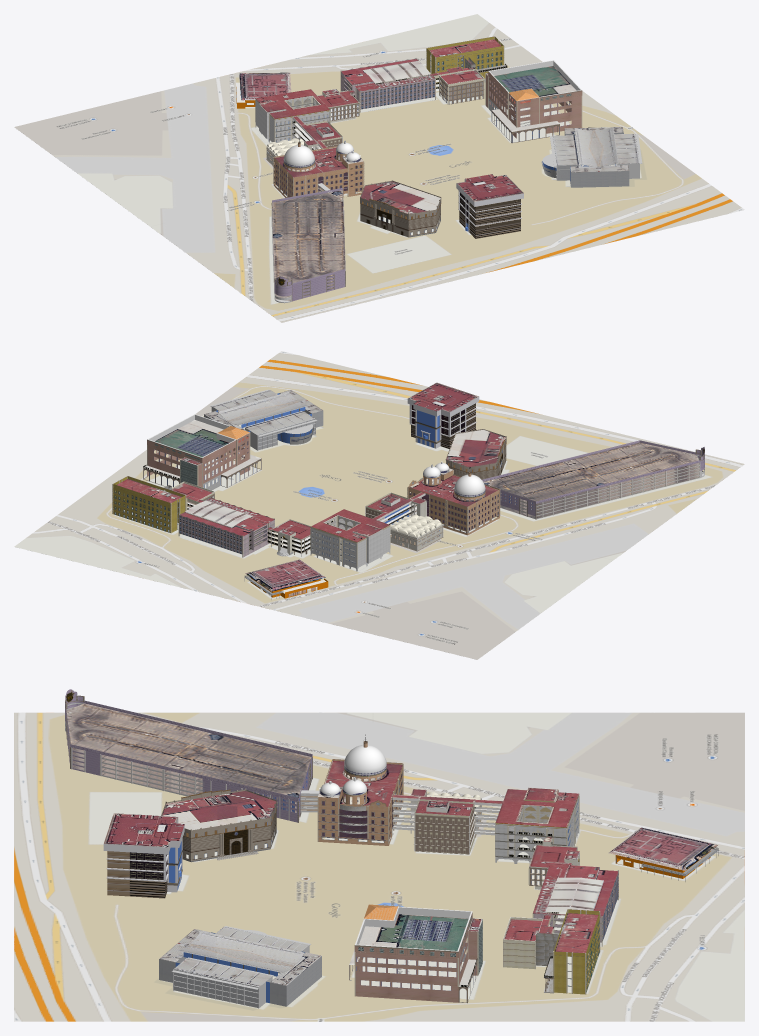
Rendered from ccm_map_notrees.obj.
The picture shows the model from 3 angles, top to bottom: view 1: azimuth 30°, elevation 25°; view 2: azimuth 150°, elevation 25°; view 3: azimuth 270°, elevation 25°; orthographic projection. The views are drawn at different scales.
Visible parts, largest first — view 1: ccm4, ccm14, ccm10, ccm3, ccm2, ccm, ccm8, ccm9, ccm6, ccm1, ccm12, ccm5 (+3 smaller); view 2: ccm4, ccm14, ccm10, ccm3, ccm2, ccm9, ccm6, ccm8, ccm1, ccm, ccm5, ccm7 (+3 smaller); view 3: ccm4, ccm14, ccm10, ccm3, ccm2, ccm, ccm8, ccm6, ccm13, ccm1, ccm9, ccm5 (+2 smaller).
Boxes of the visible parts, bbox=[...] form: ccm4: bbox=[14, 14, 744, 322]; ccm14: bbox=[271, 183, 345, 303]; ccm10: bbox=[485, 60, 582, 143]; ccm3: bbox=[541, 127, 642, 187]; ccm2: bbox=[273, 137, 364, 197]; ccm: bbox=[360, 180, 441, 237]; ccm8: bbox=[456, 174, 523, 238]; ccm9: bbox=[340, 58, 435, 112]; ccm6: bbox=[255, 89, 330, 142]; ccm1: bbox=[426, 36, 507, 87]; ccm12: bbox=[431, 67, 484, 104]; ccm5: bbox=[236, 72, 291, 108]; ccm4: bbox=[14, 351, 744, 659]; ccm14: bbox=[482, 440, 704, 519]; ccm10: bbox=[143, 414, 261, 490]; ccm3: bbox=[204, 389, 323, 450]; ccm2: bbox=[407, 461, 500, 535]; ccm9: bbox=[178, 497, 274, 557]; ccm6: bbox=[310, 509, 390, 571]; ccm8: bbox=[407, 382, 479, 448]; ccm1: bbox=[112, 476, 186, 533]; ccm: bbox=[445, 429, 506, 479]; ccm5: bbox=[244, 559, 328, 599]; ccm7: bbox=[390, 498, 443, 551]; ccm4: bbox=[14, 712, 744, 1021]; ccm14: bbox=[65, 689, 319, 822]; ccm10: bbox=[349, 904, 482, 1003]; ccm3: bbox=[159, 926, 321, 1008]; ccm2: bbox=[317, 734, 403, 845]; ccm: bbox=[161, 788, 276, 862]; ccm8: bbox=[103, 813, 184, 898]; ccm6: bbox=[495, 787, 579, 863]; ccm13: bbox=[392, 794, 503, 854]; ccm1: bbox=[536, 909, 600, 994]; ccm9: bbox=[532, 865, 618, 946]; ccm5: bbox=[608, 827, 718, 881].
Bounding box in the file's own units: 20000 × 2396 × 20000.
15 materials, 15 textured.
